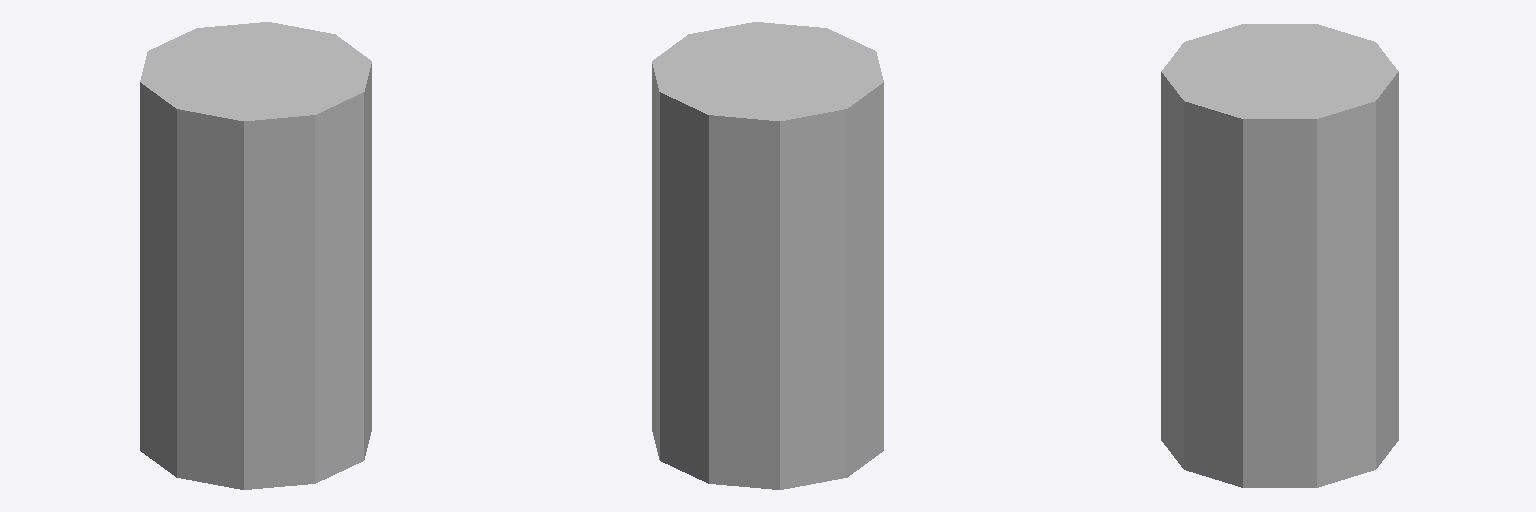
File: Barrel_2.obj
3 views of the same model, side by side, from view 1: azimuth 30°, elevation 25°; view 2: azimuth 150°, elevation 25°; view 3: azimuth 270°, elevation 25° (orthographic).
Visible parts, largest first — view 1: Barrel_2; view 2: Barrel_2; view 3: Barrel_2.
Boxes of the visible parts, <box> form: Barrel_2: <box>140,22,371,489</box>; Barrel_2: <box>652,22,883,489</box>; Barrel_2: <box>1161,24,1398,487</box>.
Bounding box in the file's own units: 0.5297 × 0.9547 × 0.5569.